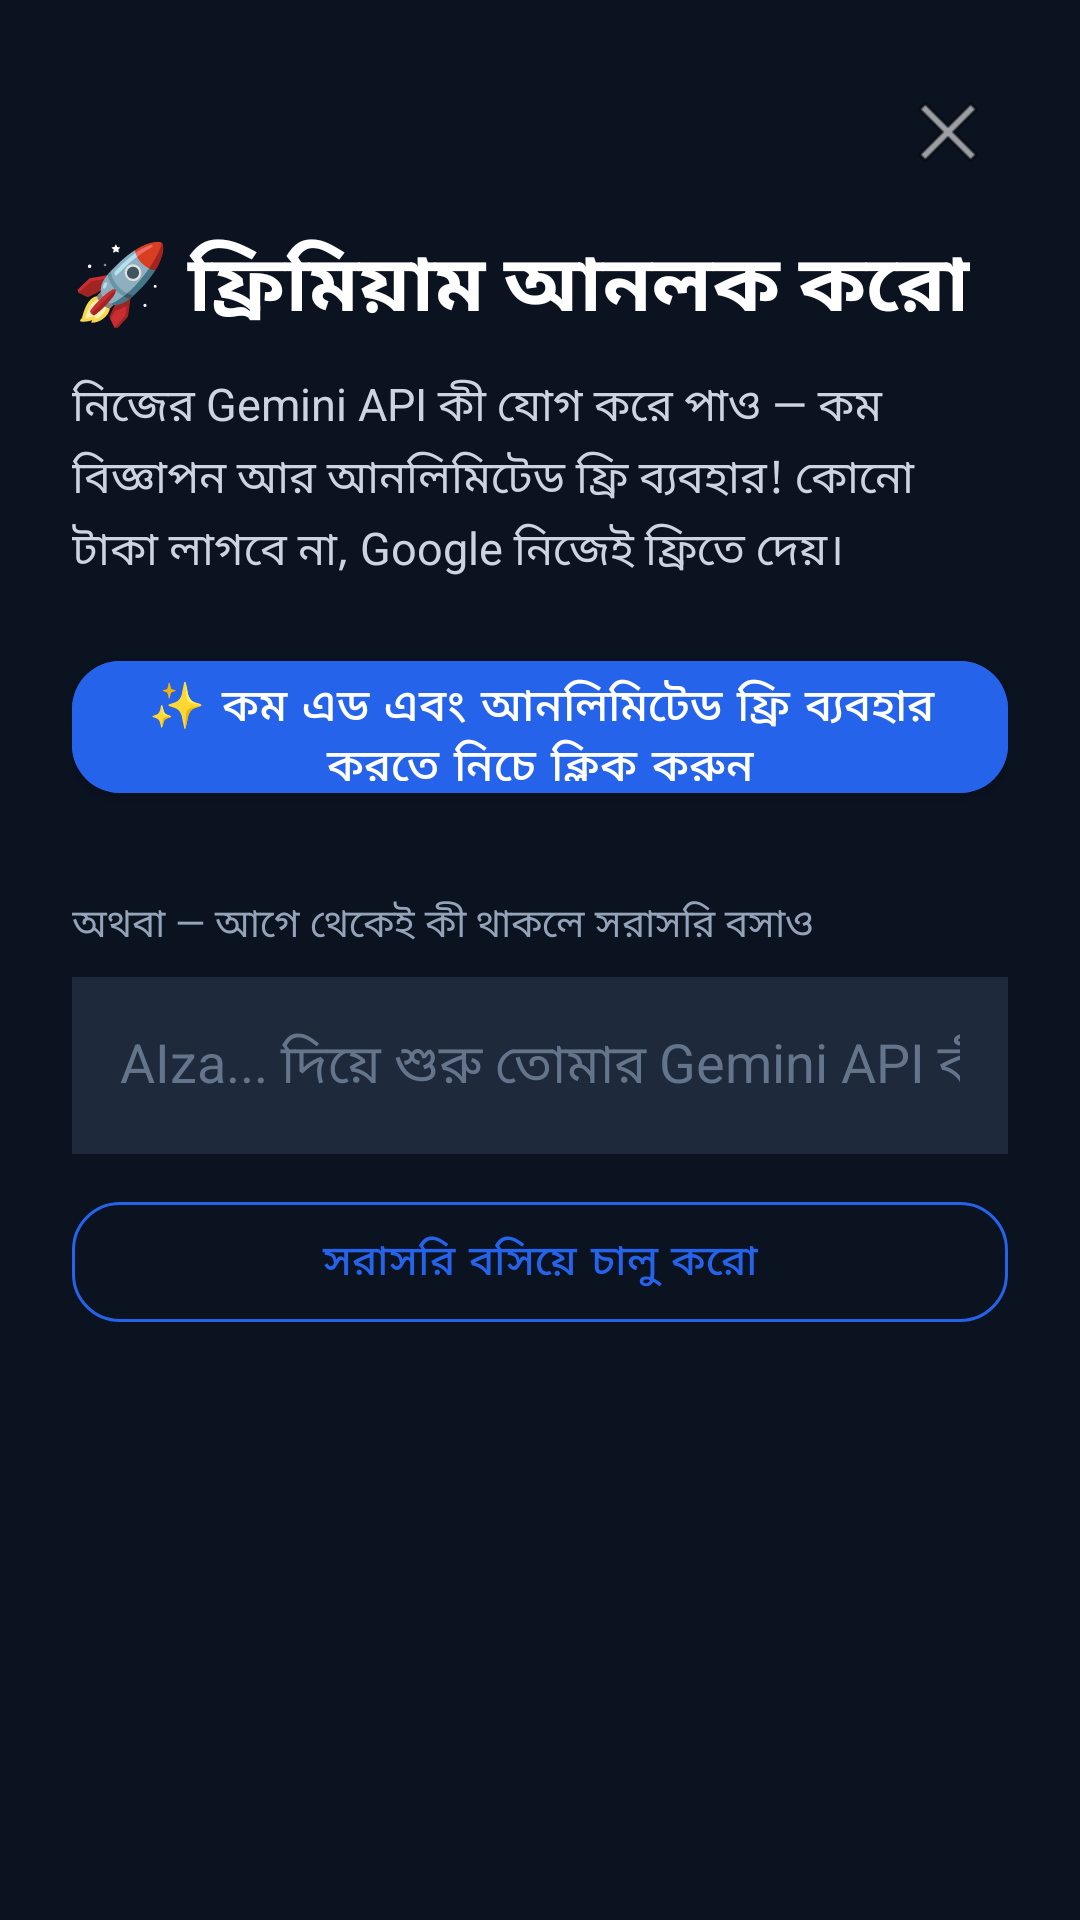

Screen size 1080×1920. Icon name, then its box in pixels as (x1=x1, y1=y1, x2=x2, y2=y2):
বন্ধ করো: (x1=921, y1=105, x2=975, y2=159)
